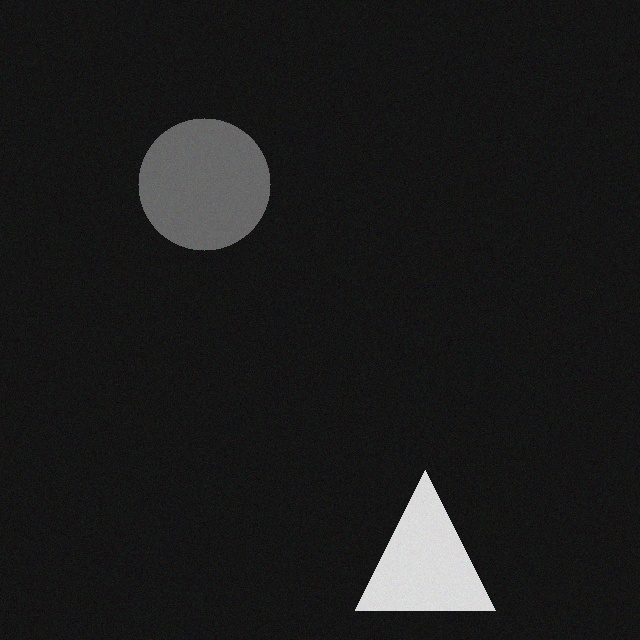circle: (152, 121, 284, 253)
triangle: (369, 473, 509, 613)
